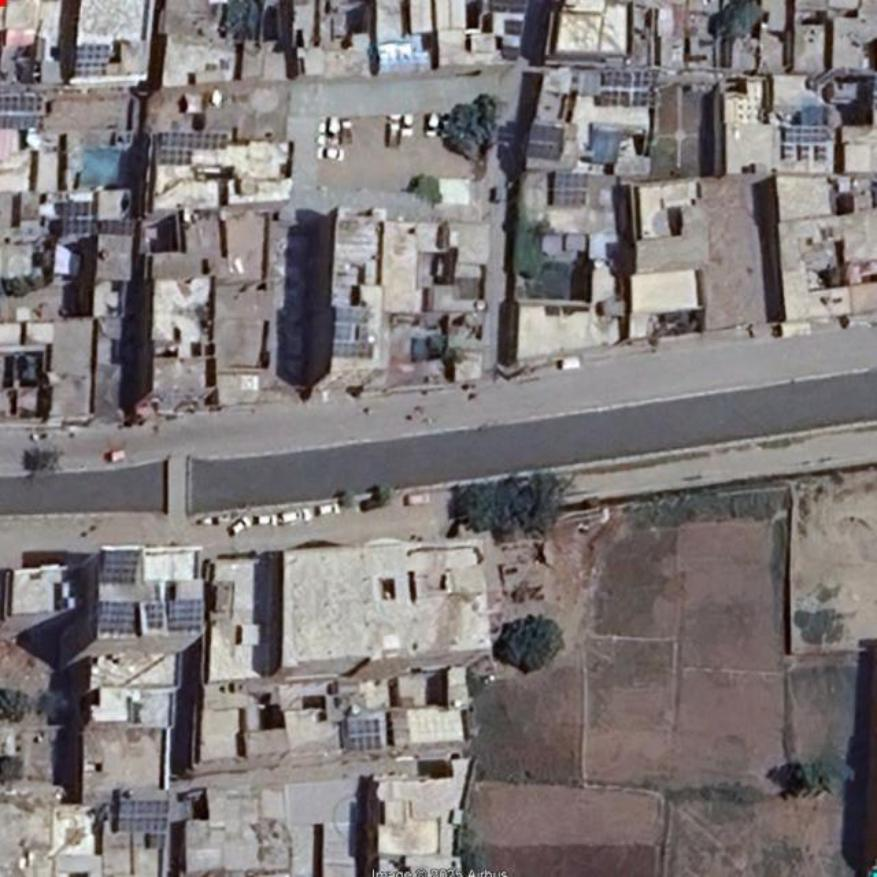Solarpanel: (116, 801, 171, 832), (554, 172, 591, 205), (160, 130, 225, 148), (100, 553, 138, 581), (526, 128, 561, 158), (98, 604, 136, 631), (347, 721, 380, 751), (75, 44, 106, 74), (167, 600, 201, 627), (602, 91, 656, 108), (603, 69, 654, 85), (0, 93, 44, 110), (0, 114, 41, 131), (161, 151, 189, 164), (148, 602, 161, 627)
